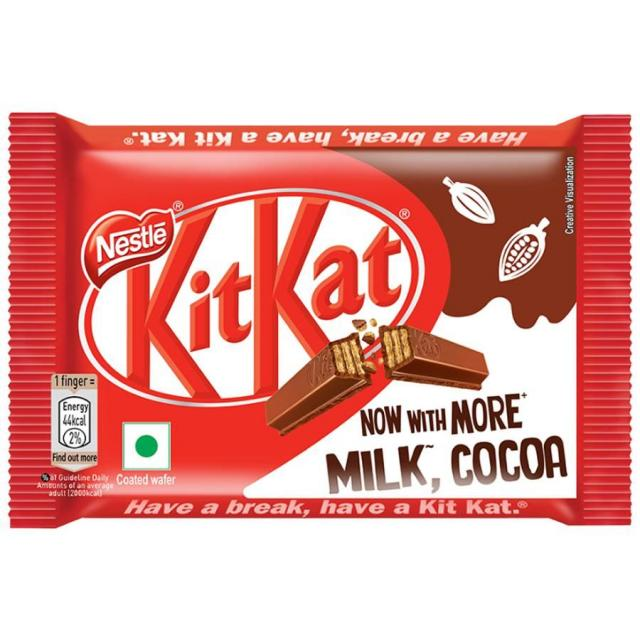kitkat: (11, 114, 630, 527)
